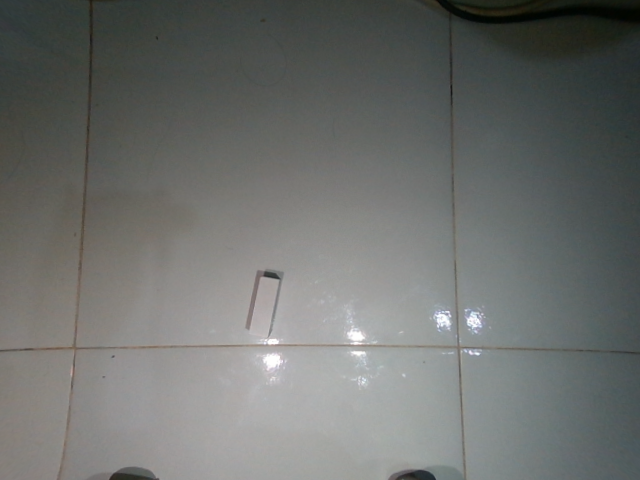Balok-Putih: (246, 276, 281, 339)
